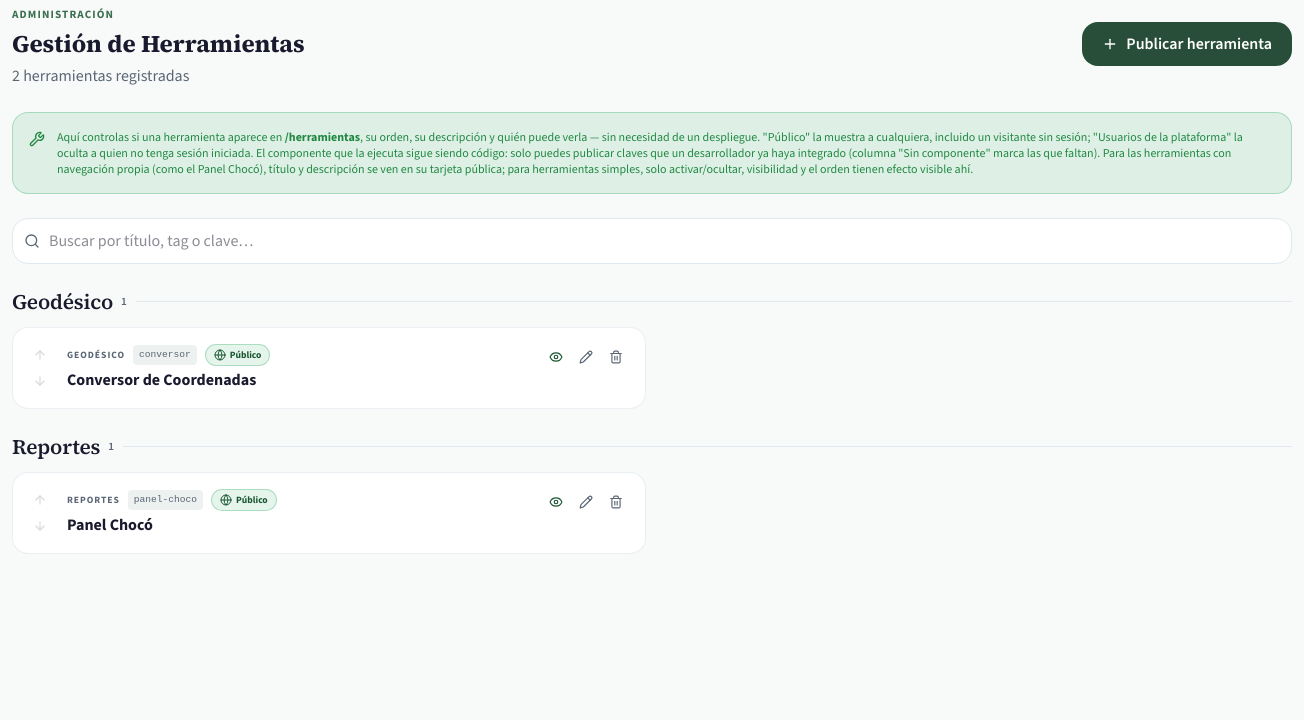
Test: GestionHerramientas — buscador › sin coincidencias muestra un mensaje explícito
In the field named "Buscar herramienta": [652, 241] box [12,218,1292,264], type "xyz-no-existe"
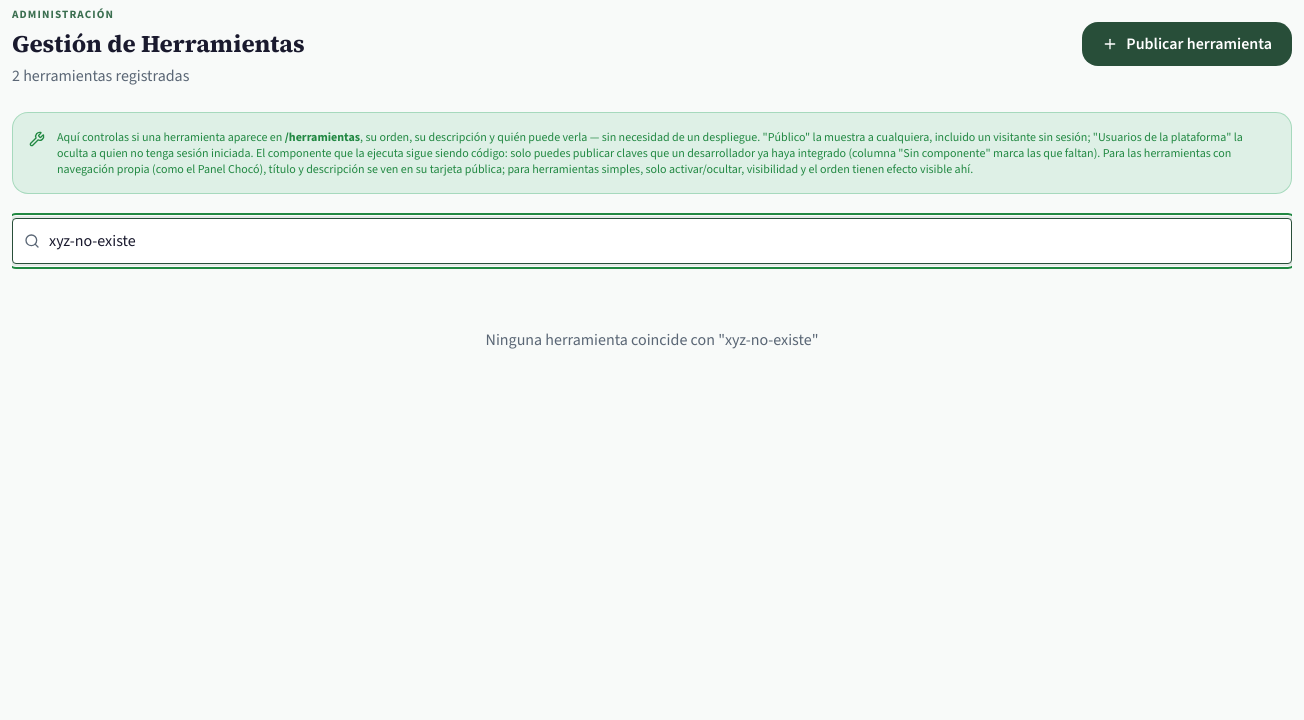
Expected: the text "Ninguna herramienta coincide con \"xyz-no-existe\"" is shown, [486,329,818,350]
